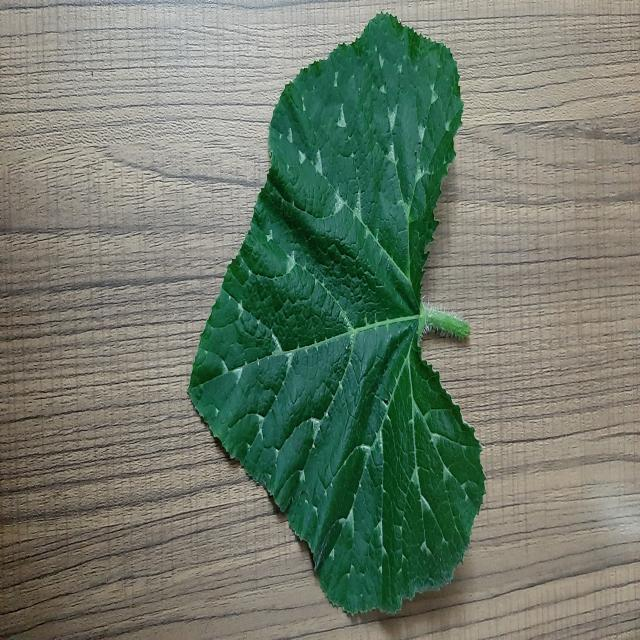pumpkin: (189, 14, 484, 612)
